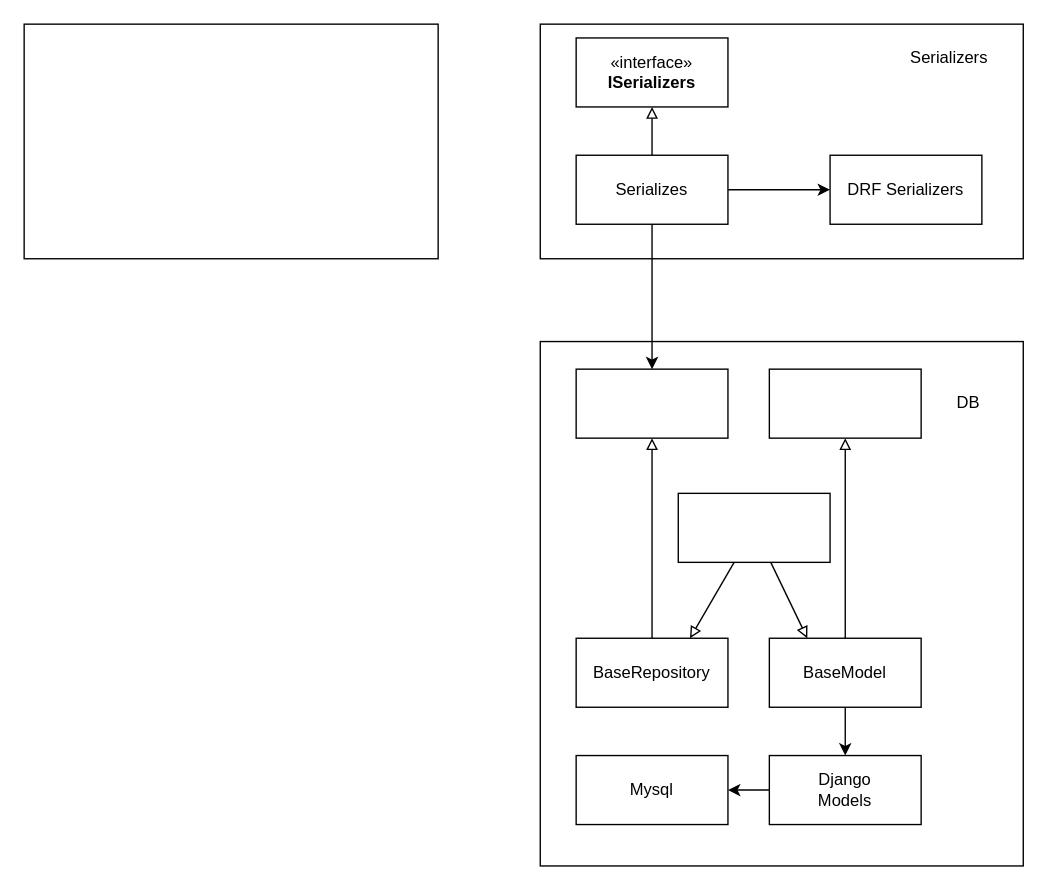
This 1047x890 diagram has some shape labels left out. The shapes that lost their labels are listed below. From the top down, each one's centre as x and y in pixels, then its label:
pixel 651 403: «interface» IRepositories
pixel 844 403: «interface» IModel
pixel 753 527: Models do Sistema
